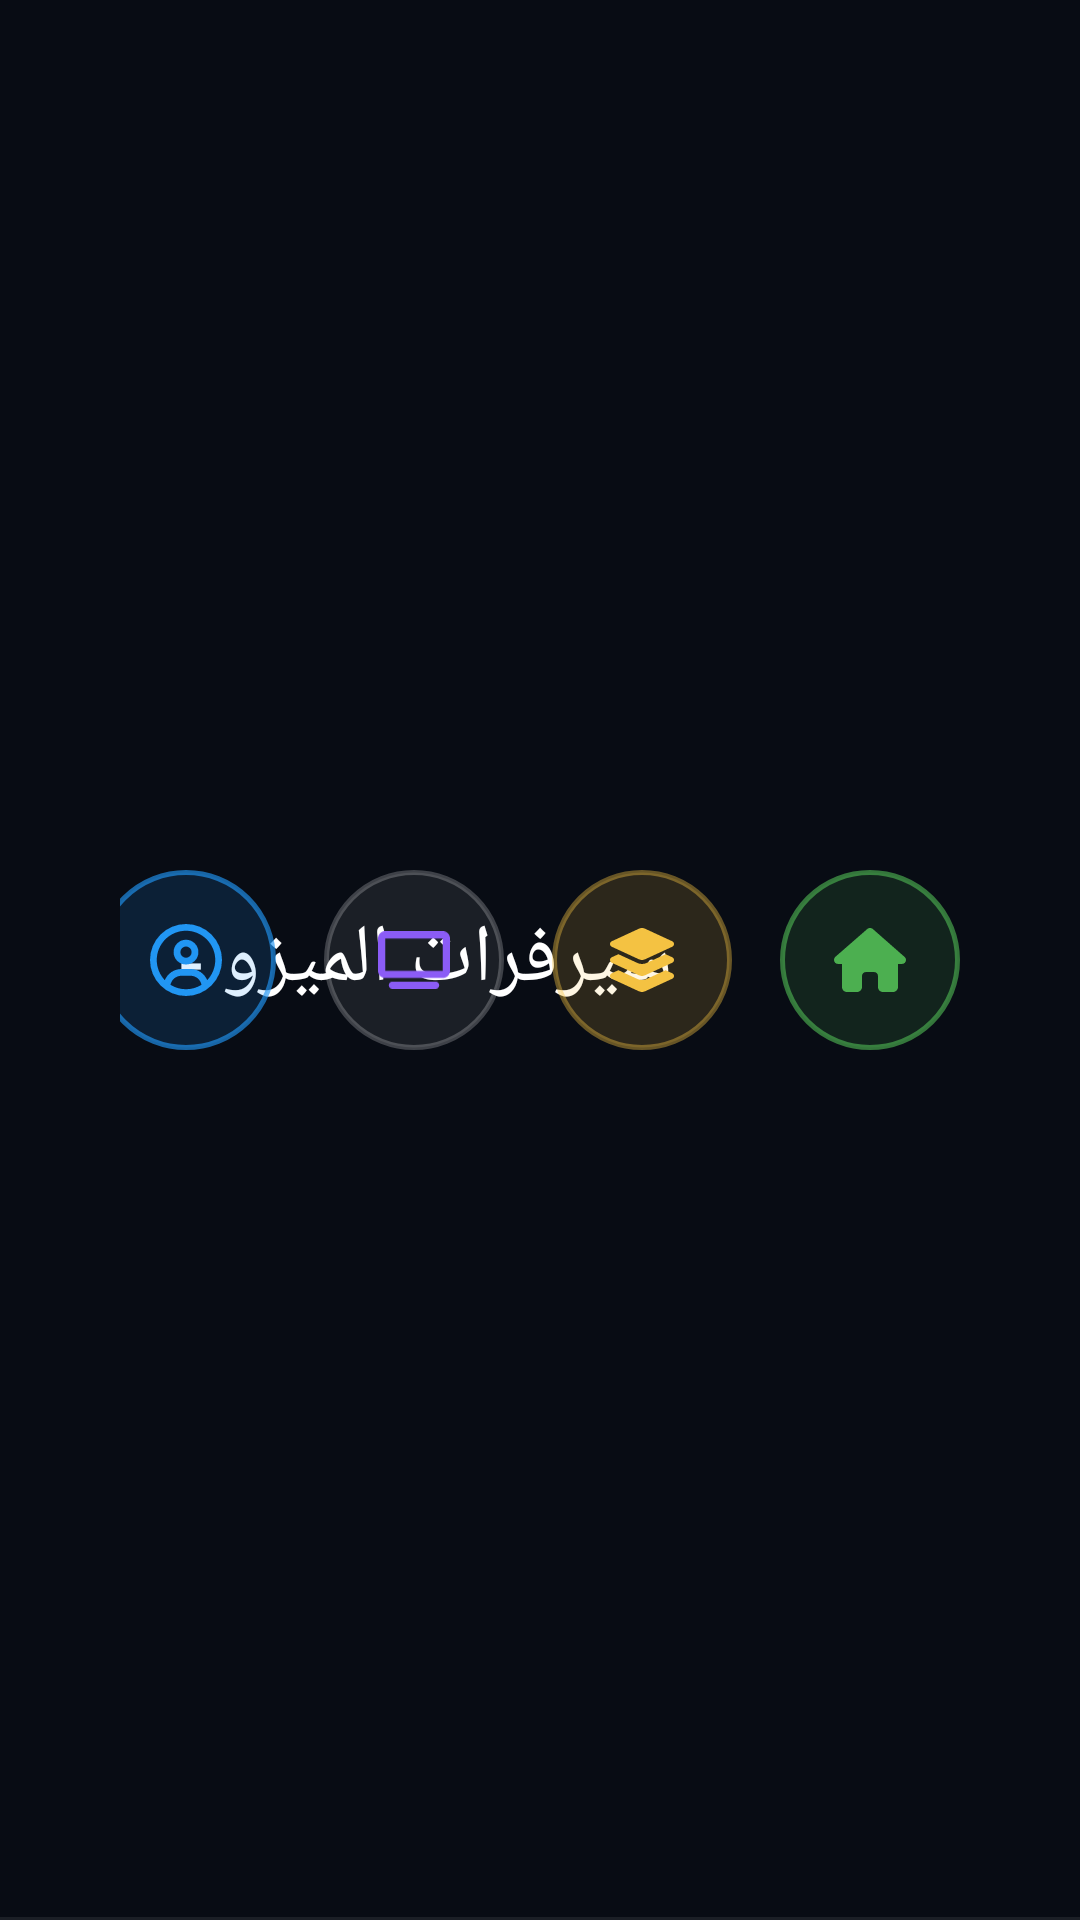

Named icons in this screenshot (1080px×1920px) and their centers, (x,y):
الرجوع للرئيسية: (870,960)
